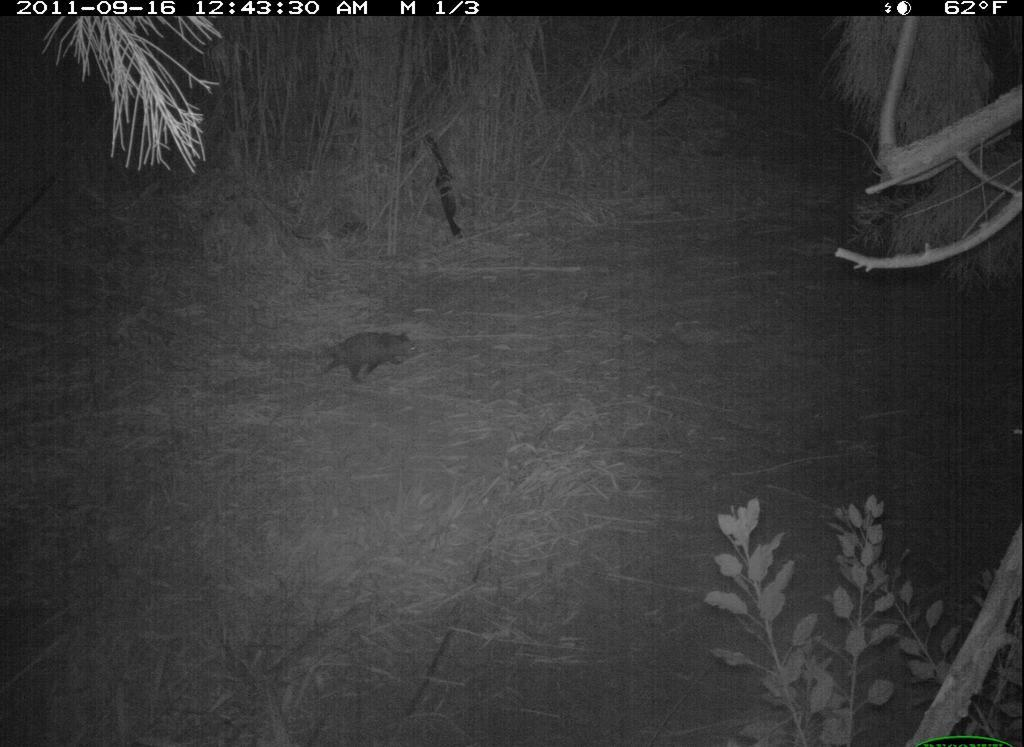opossum: (321, 322, 432, 390)
